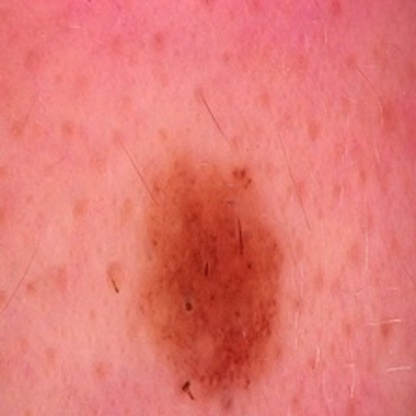benign: (155, 185, 271, 368)
